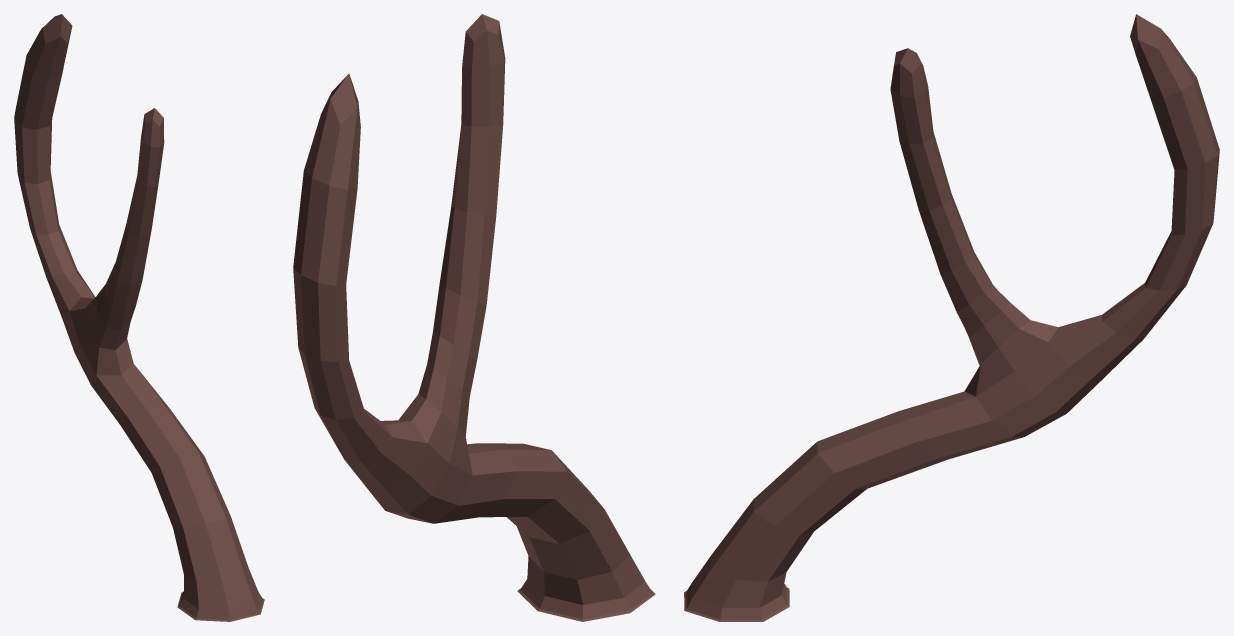
Rendered from willow_dead_3.glb.
The picture shows the model from 3 angles, left to right: view 1: azimuth 30°, elevation 25°; view 2: azimuth 150°, elevation 25°; view 3: azimuth 270°, elevation 25°; orthographic projection. The views are drawn at different scales.
Parts seen in each view (by area): view 1: Willow_Dead_3; view 2: Willow_Dead_3; view 3: Willow_Dead_3.
Part boxes in pixels (bbox=[...]): Willow_Dead_3: bbox=[14, 14, 264, 621]; Willow_Dead_3: bbox=[293, 14, 655, 621]; Willow_Dead_3: bbox=[684, 14, 1219, 621].
Bounding box in the file's own units: 0.3109 × 1.91 × 1.58.
